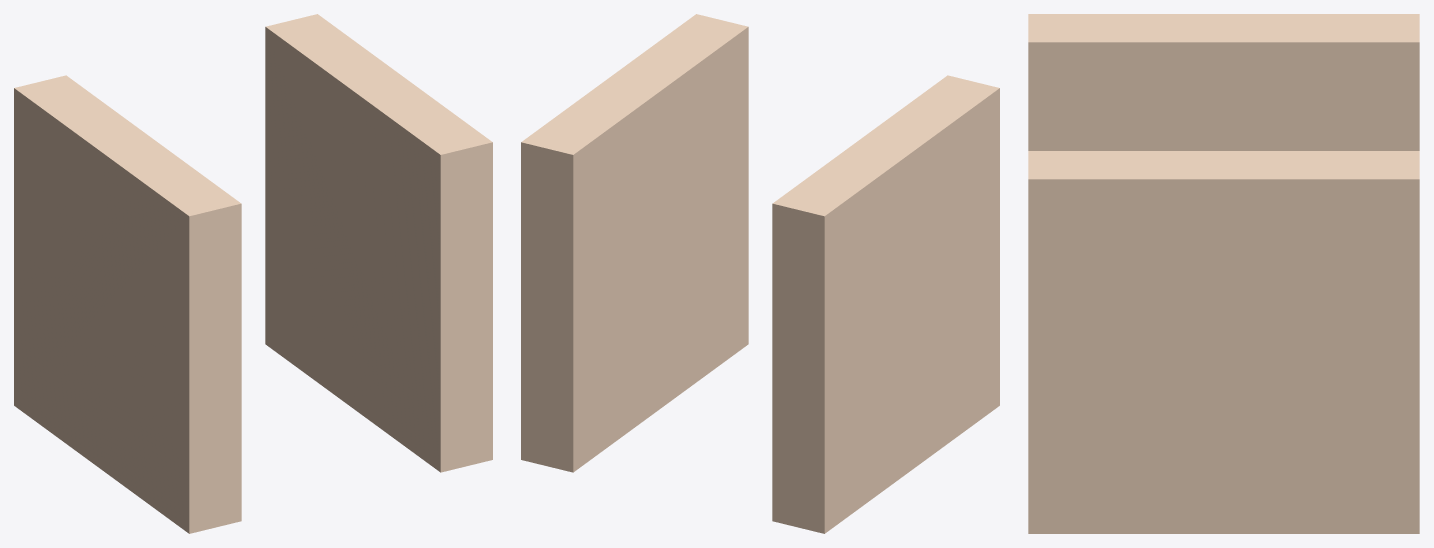
Rendered from Abstract_Modular_Corridor_Walls_1.0_Beige_01.fbx.
3 renders of one model, left to right at view 1: azimuth 30°, elevation 25°; view 2: azimuth 150°, elevation 25°; view 3: azimuth 270°, elevation 25°, orthographic. The views are drawn at different scales.
Parts seen in each view (by area): view 1: Abstract_Modular_Corridor_Walls_1.0_Beige_01; view 2: Abstract_Modular_Corridor_Walls_1.0_Beige_01; view 3: Abstract_Modular_Corridor_Walls_1.0_Beige_01.
Boxes of the visible parts, left/top/right/bottom form: Abstract_Modular_Corridor_Walls_1.0_Beige_01: left=14, top=14, right=492, bottom=533; Abstract_Modular_Corridor_Walls_1.0_Beige_01: left=521, top=14, right=999, bottom=533; Abstract_Modular_Corridor_Walls_1.0_Beige_01: left=1028, top=14, right=1419, bottom=533.
Bounding box in the file's own units: 118 × 118 × 118.
